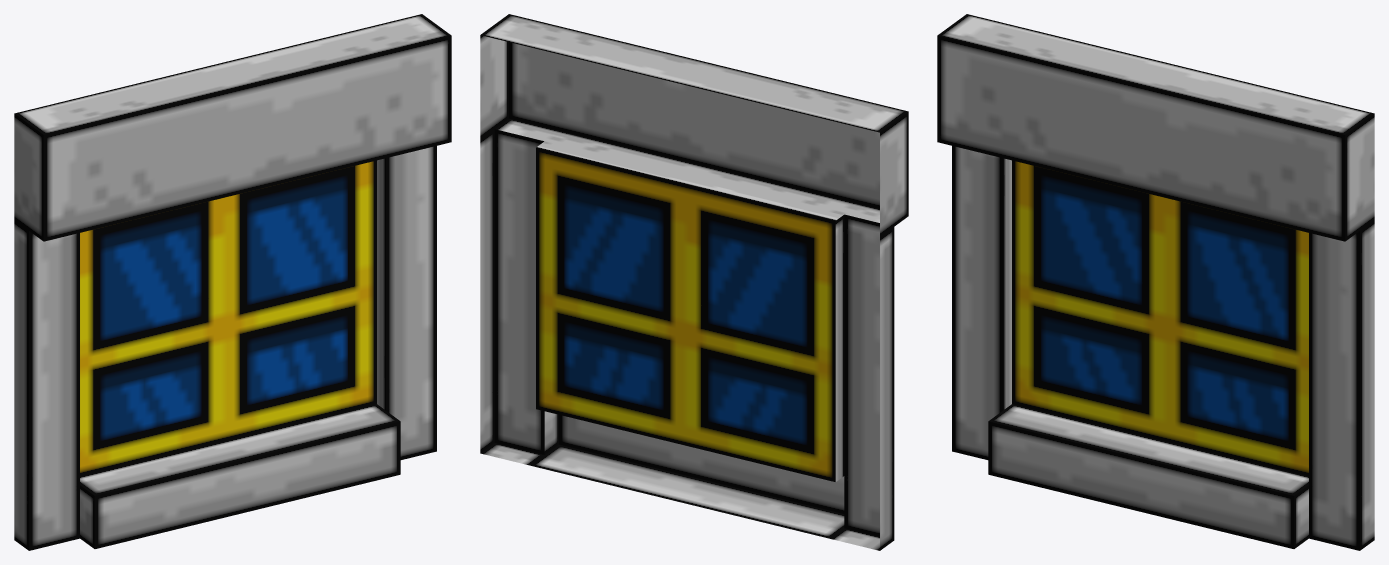
Rendered from arch_window_stone.FBX.
The picture shows the model from 3 angles, left to right: view 1: azimuth 30°, elevation 25°; view 2: azimuth 150°, elevation 25°; view 3: azimuth 330°, elevation 25°; orthographic projection. The views are drawn at different scales.
Parts seen in each view (by area): view 1: arch_window_stone; view 2: arch_window_stone; view 3: arch_window_stone.
Part boxes in pixels (x1,y1,x2,y2): arch_window_stone: [14, 14, 451, 550]; arch_window_stone: [480, 14, 908, 550]; arch_window_stone: [937, 14, 1374, 550].
Bounding box in the file's own units: 3 × 3 × 0.375.
1 material, 1 textured.
